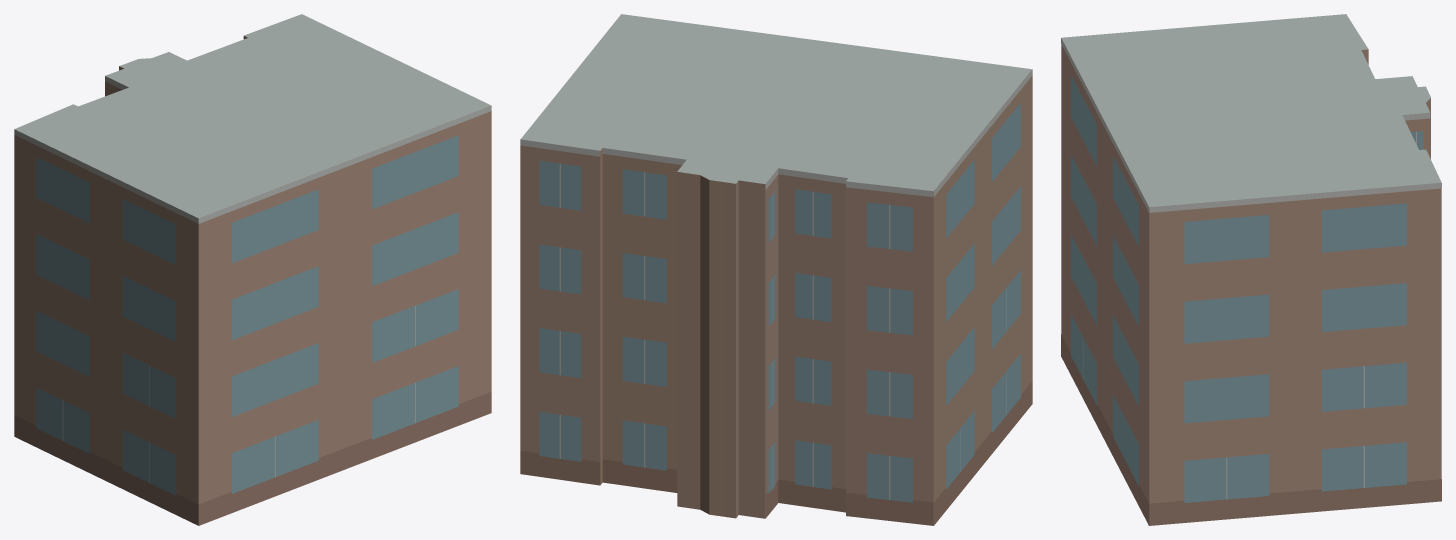
Rendered from survey-upis-32704623.glb.
3 renders of one model, left to right at view 1: azimuth 30°, elevation 25°; view 2: azimuth 150°, elevation 25°; view 3: azimuth 270°, elevation 25°, orthographic. The views are drawn at different scales.
Visible parts, largest first — view 1: survey-upis-32704623.tmp; view 2: survey-upis-32704623.tmp; view 3: survey-upis-32704623.tmp.
Part boxes in pixels (left/top/right/bottom): survey-upis-32704623.tmp: left=14, top=14, right=491, bottom=525; survey-upis-32704623.tmp: left=520, top=14, right=1032, bottom=525; survey-upis-32704623.tmp: left=1061, top=14, right=1441, bottom=525.
Bounding box in the file's own units: 17.7 × 13.6 × 14.74.
